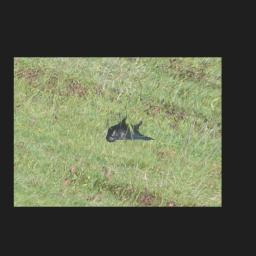Crow: (103, 111, 164, 154)
